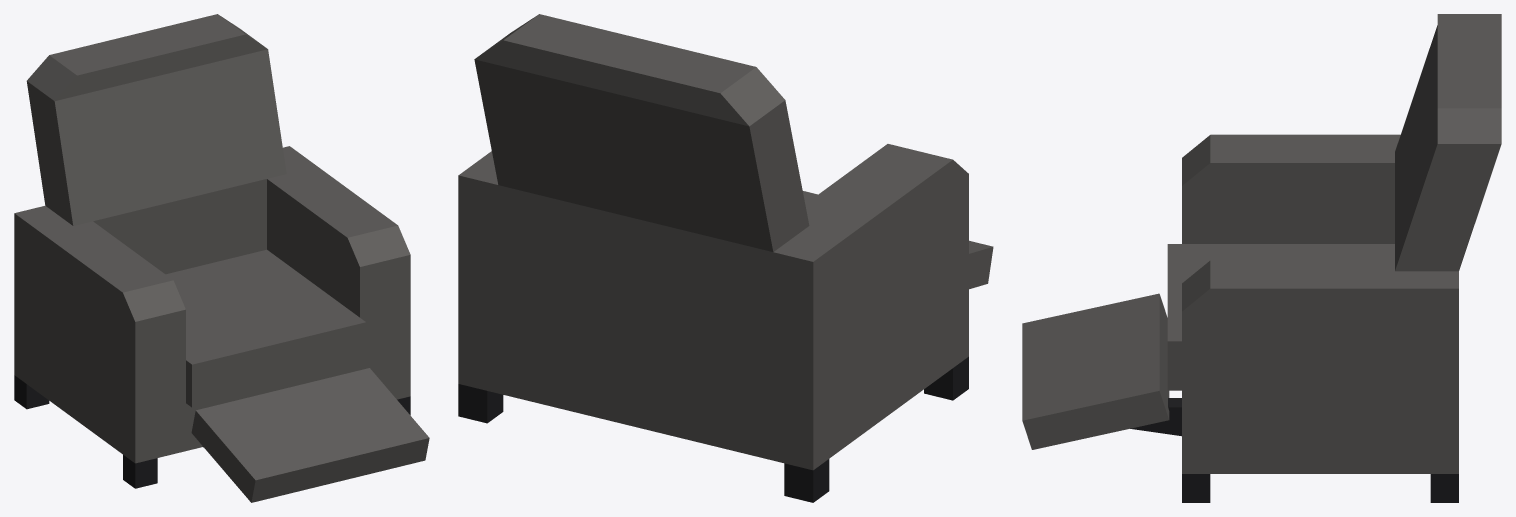
Rendered from pk_recl_grey.glb.
3 renders of one model, left to right at view 1: azimuth 30°, elevation 25°; view 2: azimuth 150°, elevation 25°; view 3: azimuth 270°, elevation 25°, orthographic. The views are drawn at different scales.
Visible parts, largest first — view 1: pk_recl_grey; view 2: pk_recl_grey; view 3: pk_recl_grey.
Part boxes in pixels (box(x1,y1,x2,y2)): pk_recl_grey: box(14, 14, 429, 502); pk_recl_grey: box(458, 14, 993, 502); pk_recl_grey: box(1022, 14, 1501, 502).
Size of the model in its own units: 0.95 by 1.05 by 1.25.
1 material, 1 textured.
